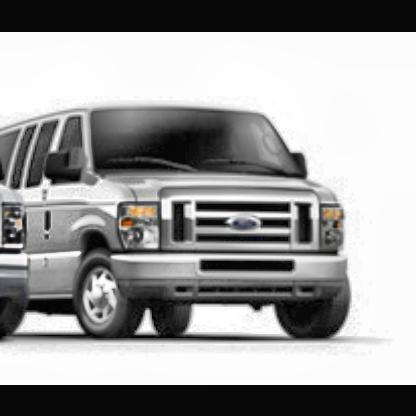Ford E-Series Wagon Van 2012: (3, 102, 364, 346)
